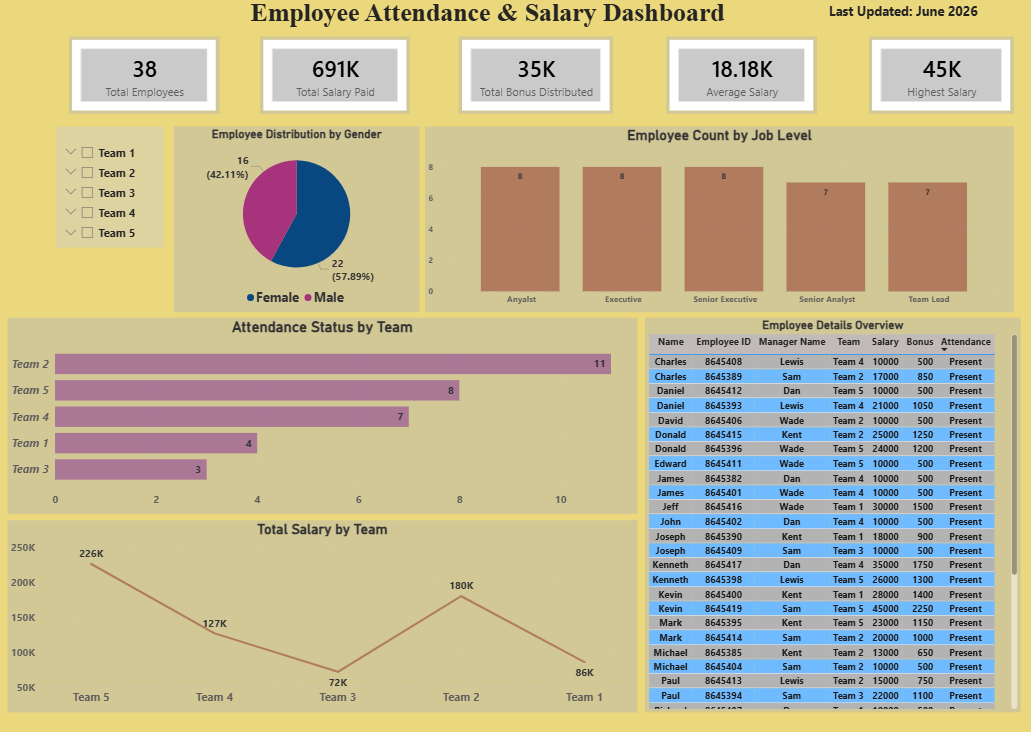

The page's visual inventory and layout, read from the dashboard file:
{"tool":"powerbi","page":{"name":"Page 1","canvas":[1500,1080],"ordinal":0},"visuals":[{"type":"pieChart","title":"Employee Distribution by Gender","fields":{"Y":["CountNonNull(Data.Employee ID)"],"Category":["Data.Gender"]},"box":[251,191,356,269],"z":0},{"type":"clusteredColumnChart","title":"Employee Count by Job Level","fields":{"Y":["CountNonNull(Data.Employee ID)"],"Category":["Data.Job Level"]},"box":[615,191,853,269],"z":1000},{"type":"barChart","title":"Attendance Status by Team","fields":{"Category":["Data.Team"],"Y":["Sum(Data.Attendance Status)"]},"box":[10,469,912,284],"z":2000},{"type":"lineChart","title":"Total Salary by Team","fields":{"Category":["Data.Team"],"Y":["Sum(Data.Salary)"]},"box":[10,762,912,278],"z":3000},{"type":"slicer","title":"sli","fields":{"Values":["Data.Team","Data.Job Level","Data.Gender","Data. Manager Name","Data.Month"]},"box":[81,191,156,175],"z":4000},{"type":"tableEx","title":"Employee Details Overview","fields":{"Values":["Data.Name","Data.Employee ID","Data. Manager Name","Data.Team","Data.Salary","Data.Bonus","Data.Attendance"]},"box":[933,469,544,571],"z":5000},{"type":"cardVisual","fields":{"Data":["CountNonNull(Data.Employee ID)"]},"box":[100,61,218,112],"z":6000},{"type":"cardVisual","fields":{"Data":["Sum(Data.Salary)"]},"box":[377,61,217,112],"z":7000},{"type":"cardVisual","fields":{"Data":["Sum(Data.Bonus)"]},"box":[664,61,223,112],"z":8000},{"type":"cardVisual","fields":{"Data":["Avg(Data.Salary)"]},"box":[965,61,218,112],"z":9000},{"type":"textbox","box":[178,0,1057,61],"z":10000},{"type":"cardVisual","fields":{"Data":["Max(Data.Salary)"]},"box":[1258,61,210,112],"z":11000},{"type":"textbox","box":[1138,8,339,53],"z":11001}]}

Visuals, with their boxes in screenshot pixels (x1, y1, x2, y2), scaled from the page's 1500x1080 canvas onto the 1031x732 screenshot:
"Employee Distribution by Gender" pieChart: <region>173, 129, 417, 312</region>
"Employee Count by Job Level" clusteredColumnChart: <region>423, 129, 1009, 312</region>
"Attendance Status by Team" barChart: <region>7, 318, 634, 510</region>
"Total Salary by Team" lineChart: <region>7, 516, 634, 705</region>
"sli" slicer: <region>56, 129, 163, 248</region>
"Employee Details Overview" tableEx: <region>641, 318, 1015, 705</region>
cardVisual - CountNonNull(Data.Employee ID): <region>69, 41, 219, 117</region>
cardVisual - Sum(Data.Salary): <region>259, 41, 408, 117</region>
cardVisual - Sum(Data.Bonus): <region>456, 41, 610, 117</region>
cardVisual - Avg(Data.Salary): <region>663, 41, 813, 117</region>
textbox: <region>122, 0, 849, 41</region>
cardVisual - Max(Data.Salary): <region>865, 41, 1009, 117</region>
textbox: <region>782, 5, 1015, 41</region>
